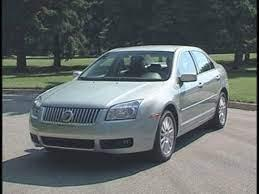Mercury: (56, 108, 83, 126)
